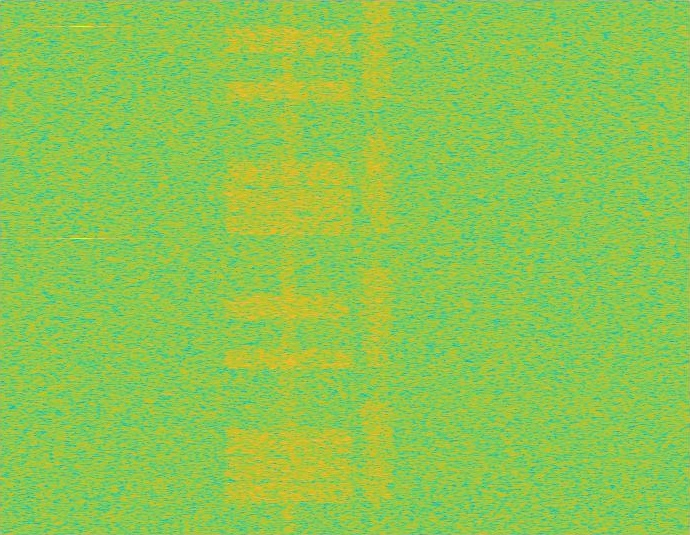5G: (360, 0, 394, 534)
DSSS: (279, 0, 298, 534), (375, 0, 379, 534)
LTE: (220, 0, 358, 534)
Radar: (75, 0, 89, 534)
